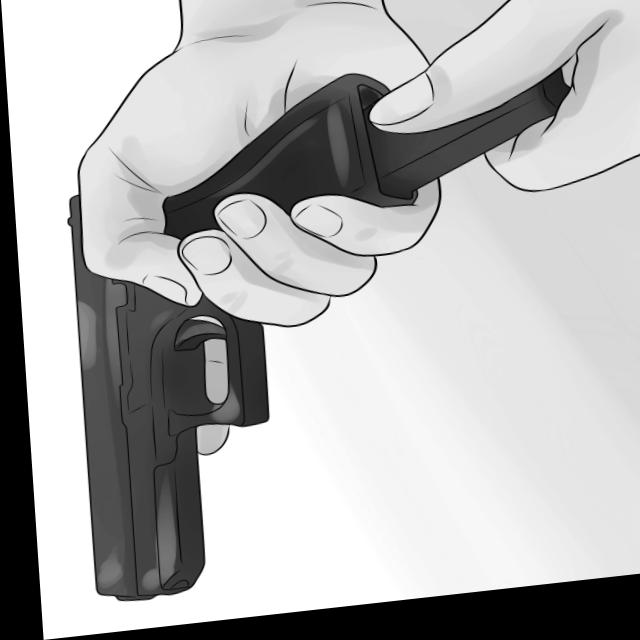handgun: (53, 69, 458, 609)
